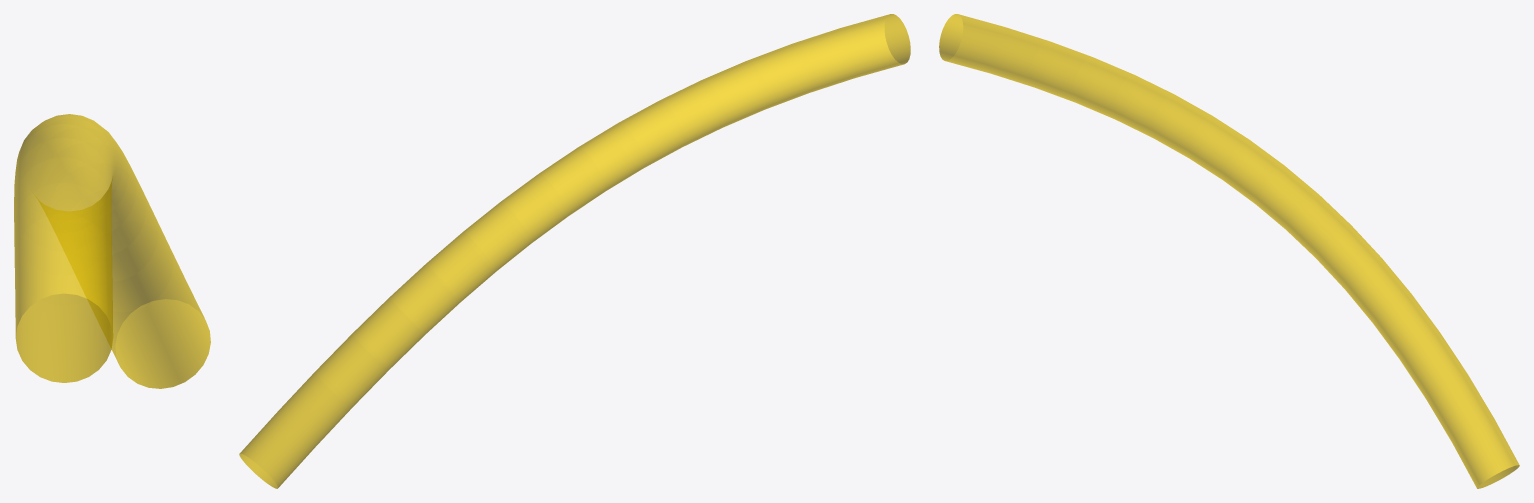
Rendered from Event_402970704_track_54.fbx.
3 renders of one model, left to right at view 1: azimuth 30°, elevation 25°; view 2: azimuth 150°, elevation 25°; view 3: azimuth 270°, elevation 25°, orthographic. The views are drawn at different scales.
Visible parts, largest first — view 1: Model; view 2: Model; view 3: Model.
Boxes of the visible parts, x1=… form: Model: x1=14, y1=114, x2=210, y2=388; Model: x1=239, y1=14, x2=910, y2=488; Model: x1=939, y1=14, x2=1519, y2=488.
Bounding box in the file's own units: 0.3407 × 0.2888 × 0.4765.
